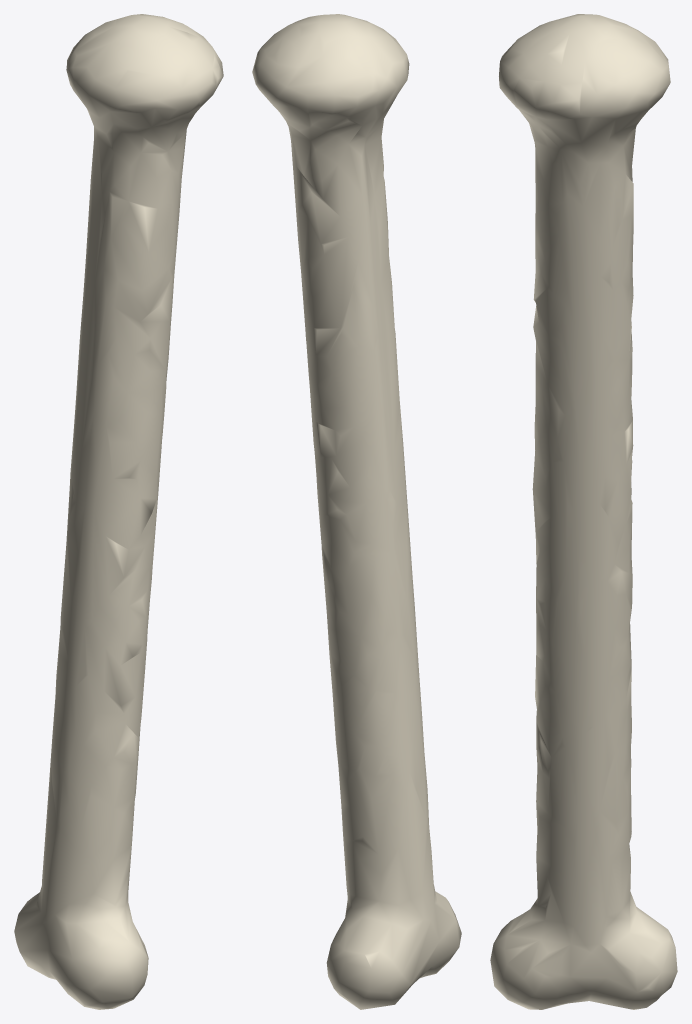
File: metatarsal_l.glb
3 views of the same model, side by side, from view 1: azimuth 30°, elevation 25°; view 2: azimuth 150°, elevation 25°; view 3: azimuth 270°, elevation 25° (orthographic). The views are drawn at different scales.
Parts seen in each view (by area): view 1: geometry_0; view 2: geometry_0; view 3: geometry_0.
Boxes of the visible parts, left/top/right/bottom form: geometry_0: left=14, top=14, right=223, bottom=1009; geometry_0: left=252, top=14, right=461, bottom=1009; geometry_0: left=490, top=14, right=677, bottom=1009.
Bounding box in the file's own units: 0.1342 × 0.7164 × 0.1195.
